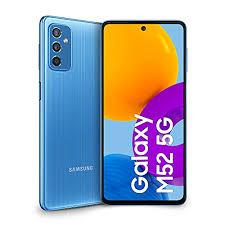Smartphone: (94, 22, 190, 209), (37, 22, 104, 216)
